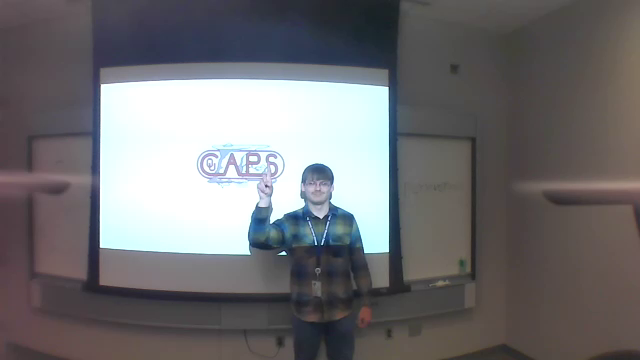up: (254, 160, 278, 200)
